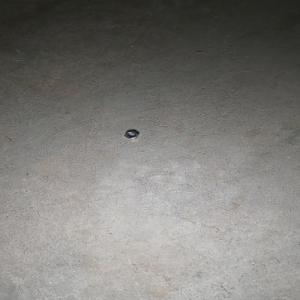Nut: (123, 130, 139, 139)
